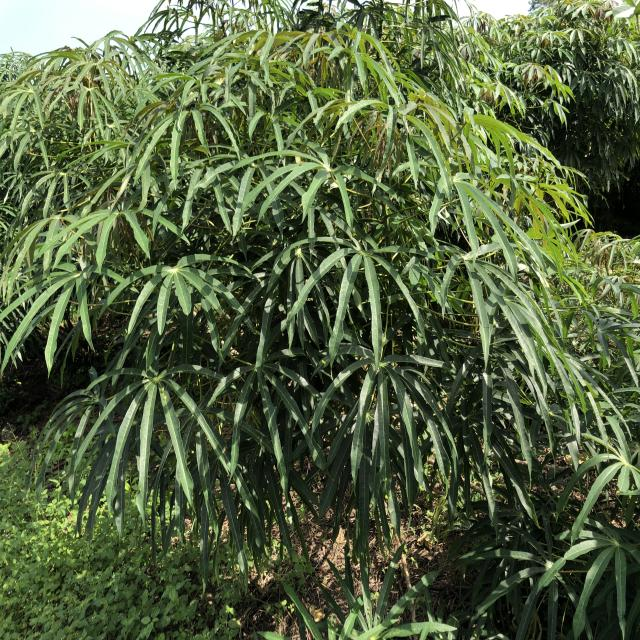Maleza: (4, 514, 193, 640)
Mosca: (355, 597, 380, 617), (156, 386, 172, 405), (247, 155, 262, 175), (379, 488, 392, 502), (608, 574, 624, 582)
